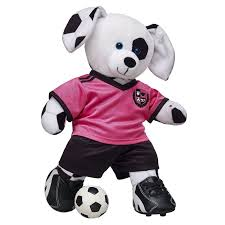football ball: (75, 184, 111, 219)
